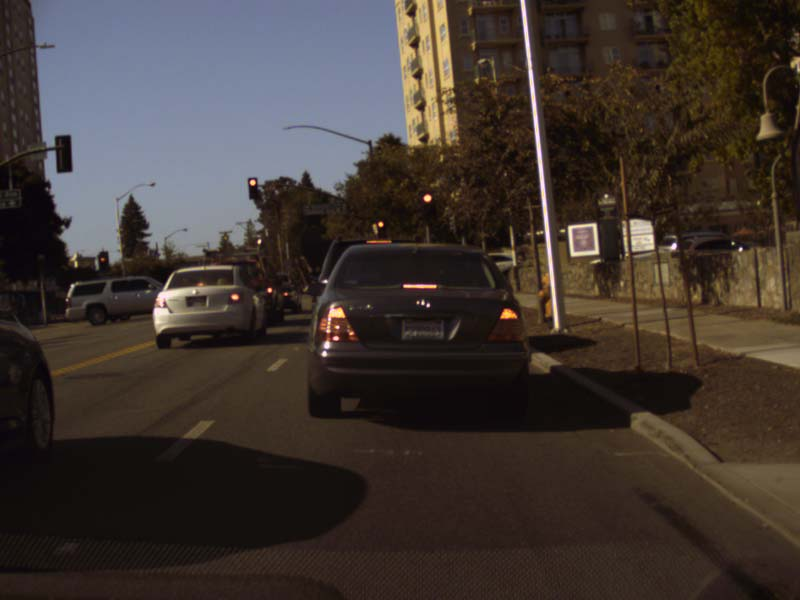Red: (421, 192, 434, 218), (376, 218, 386, 236), (248, 177, 256, 198), (99, 253, 108, 270)
